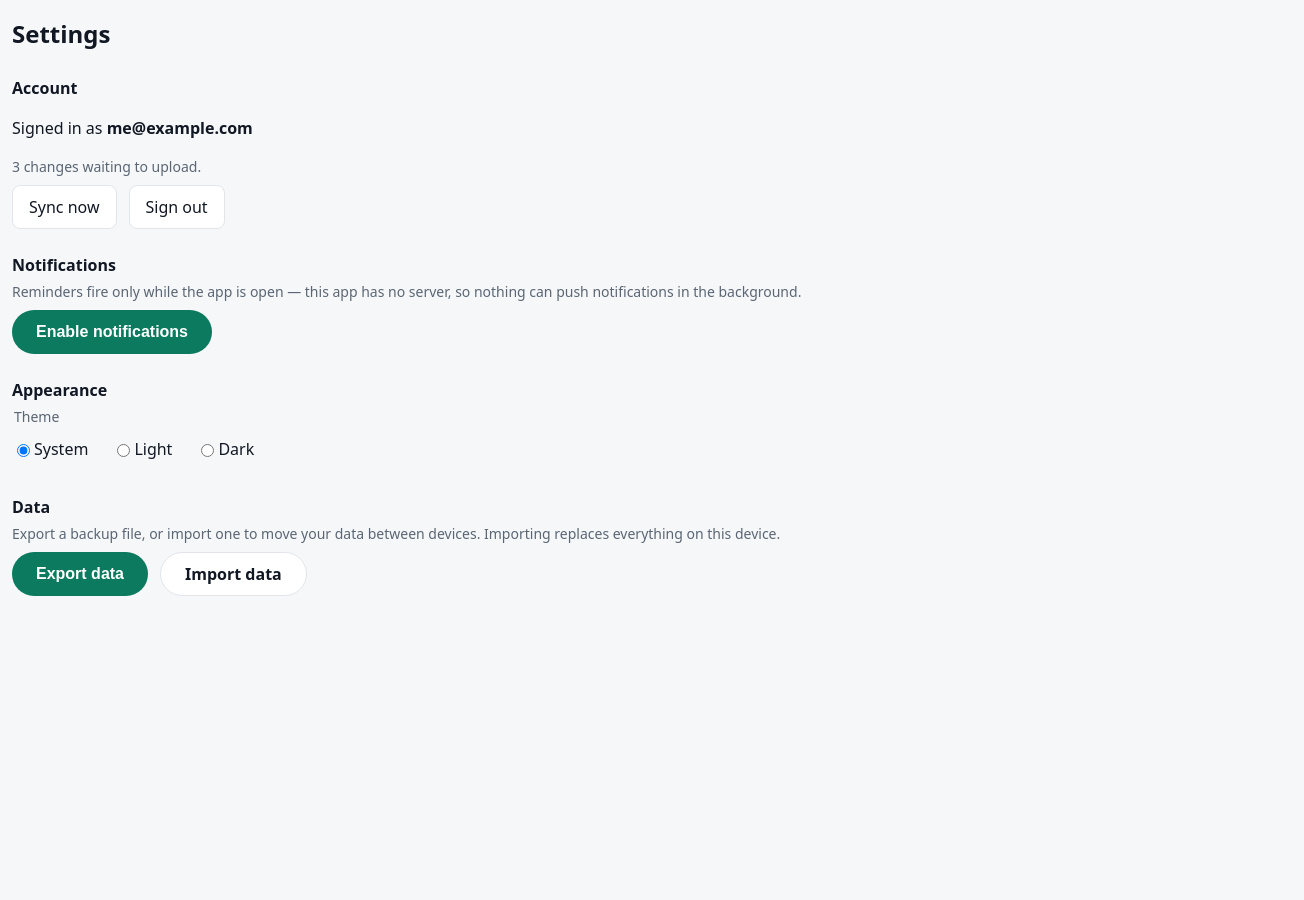
account section, signed in › signing out keeps local data
Step 1. Click the button "Sign out" → (177, 207), box [128,185,225,229]
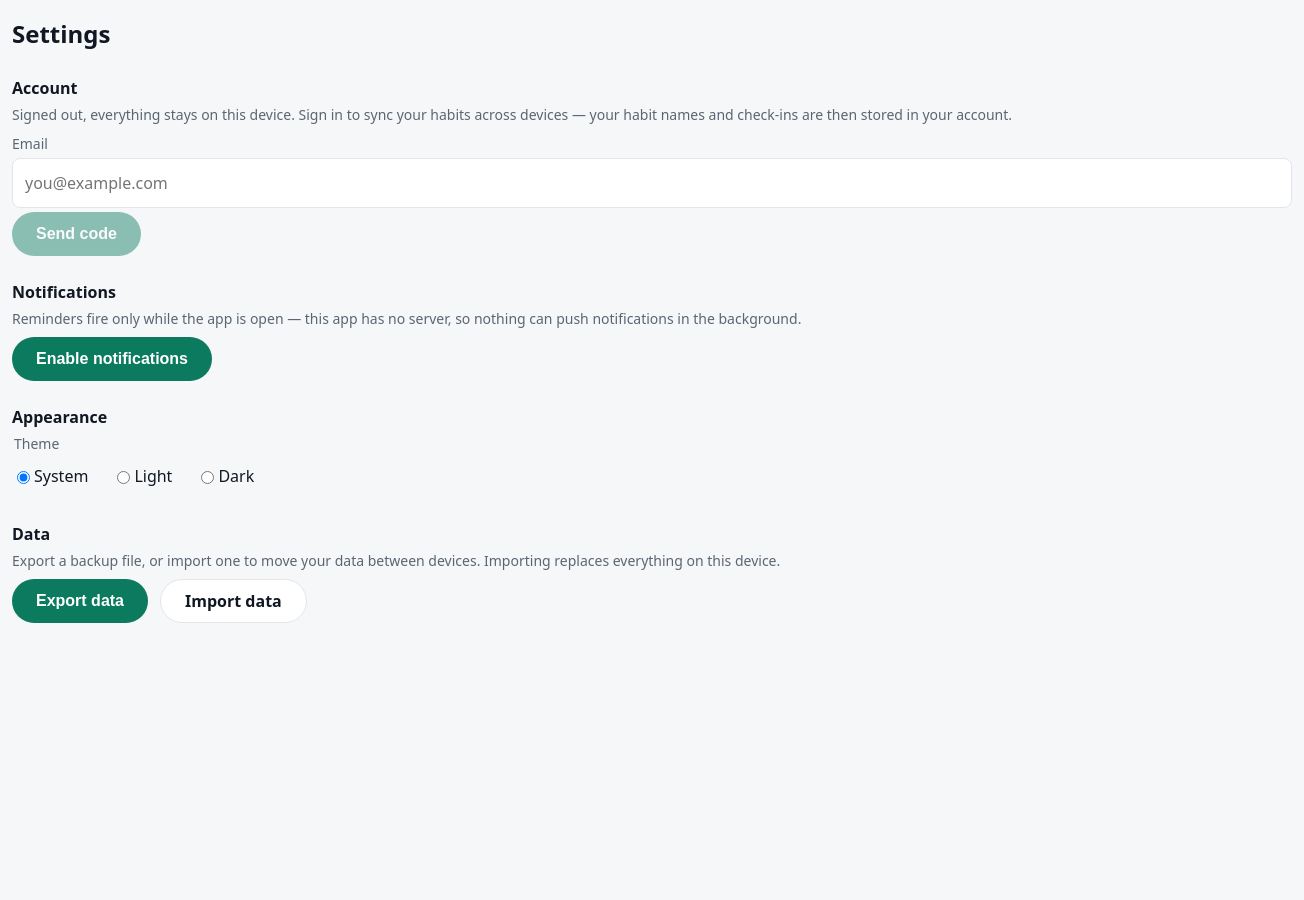
Check: the field labelled "Email" is shown, box [12,158,1292,208]
